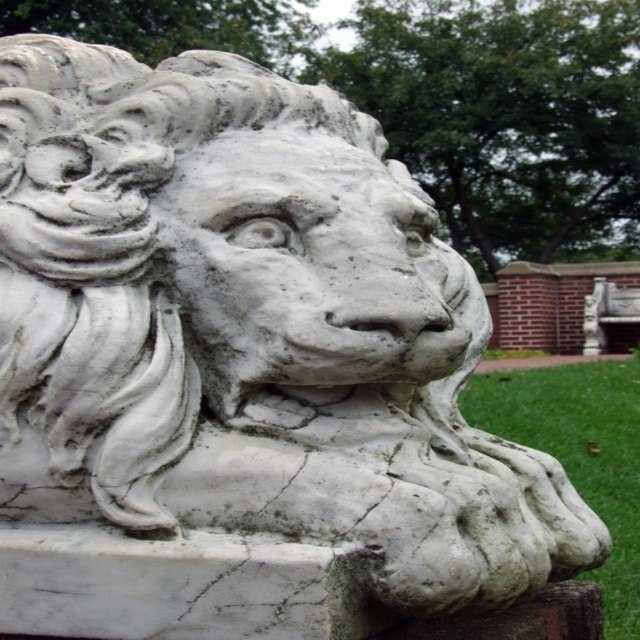Lion: (0, 31, 617, 617)
